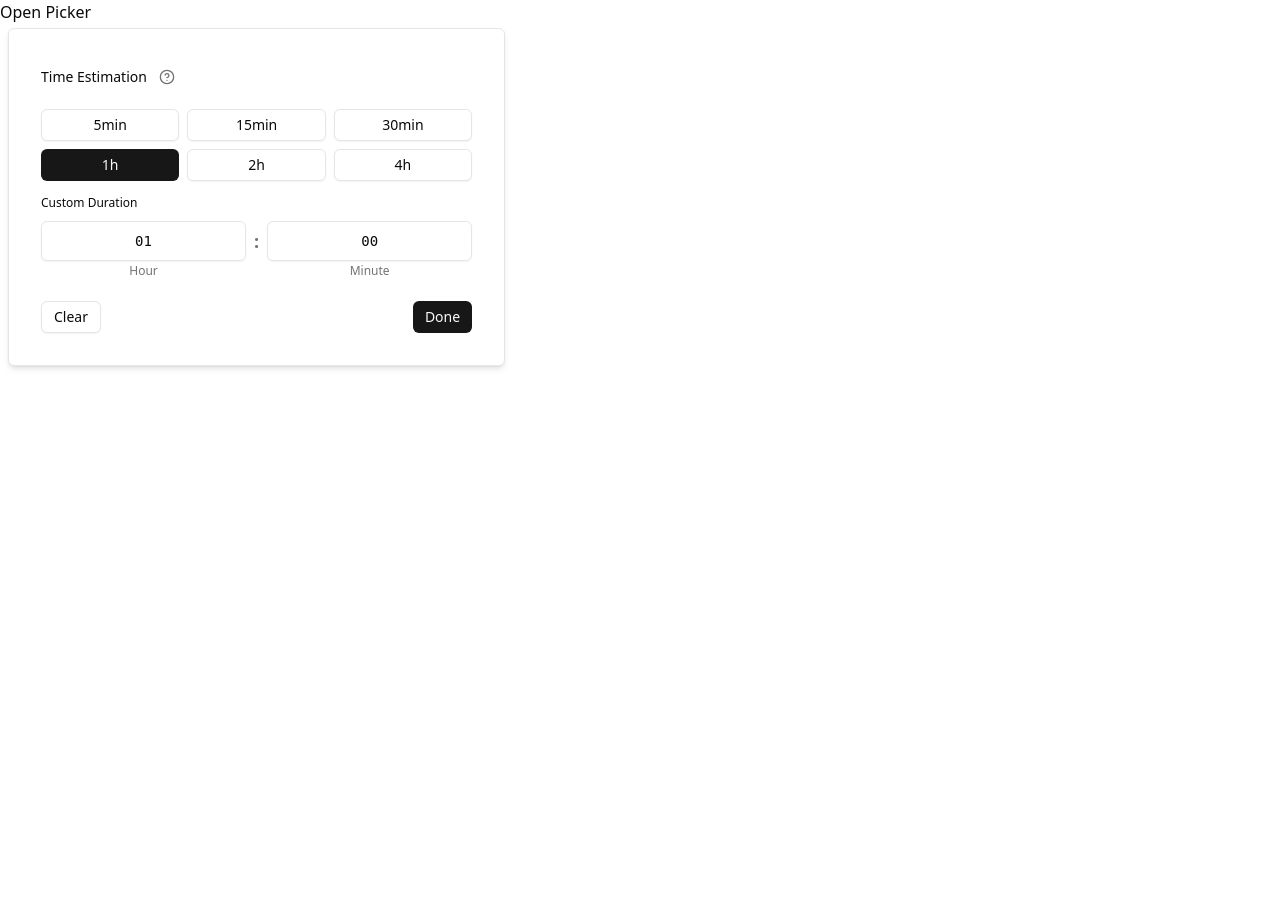
it: TimeEstimationPicker › custom duration functionality › formats hour input on blur
Replace the text in the 1st field showing "01" with "5": (144,241) [41,221,246,261]
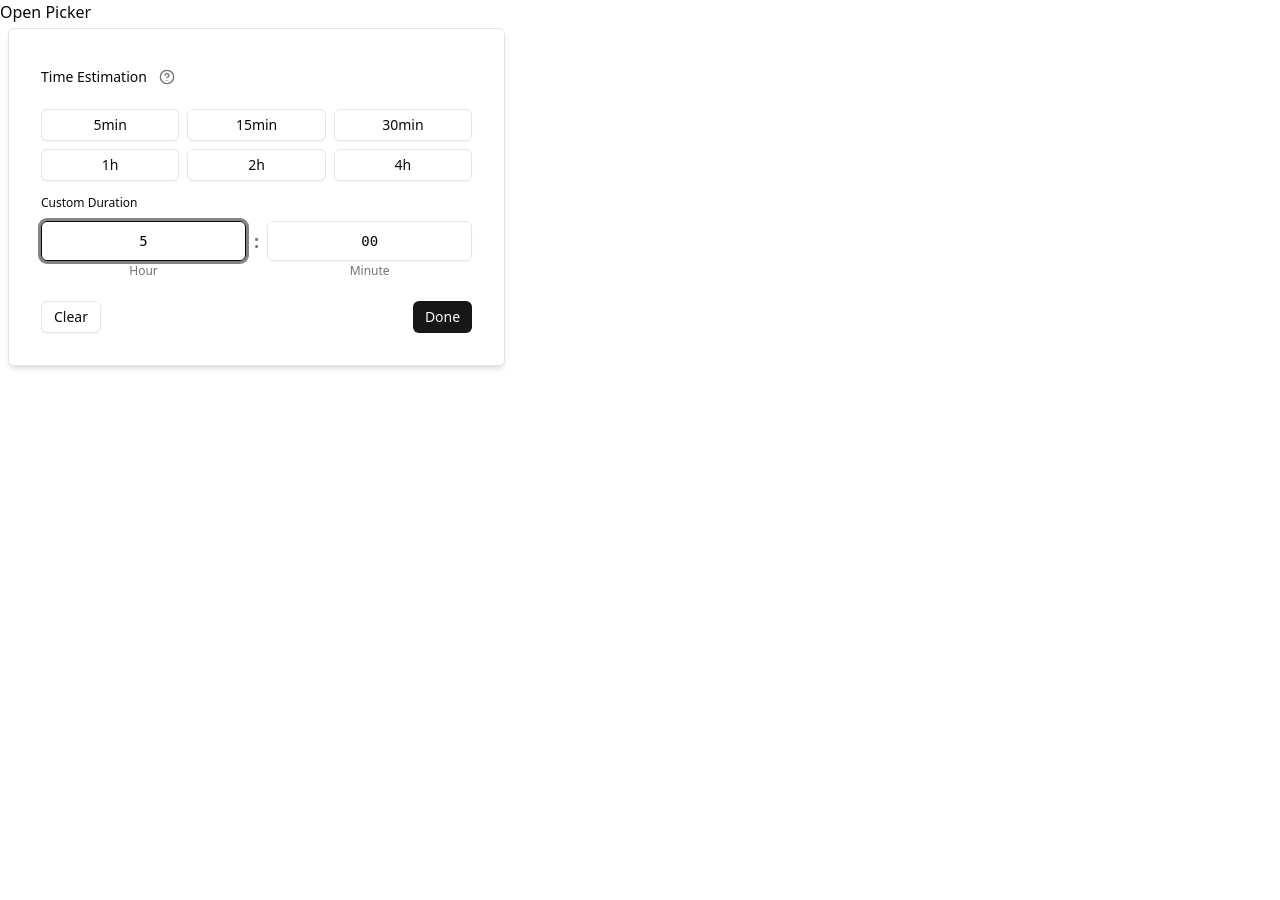
Press Tab
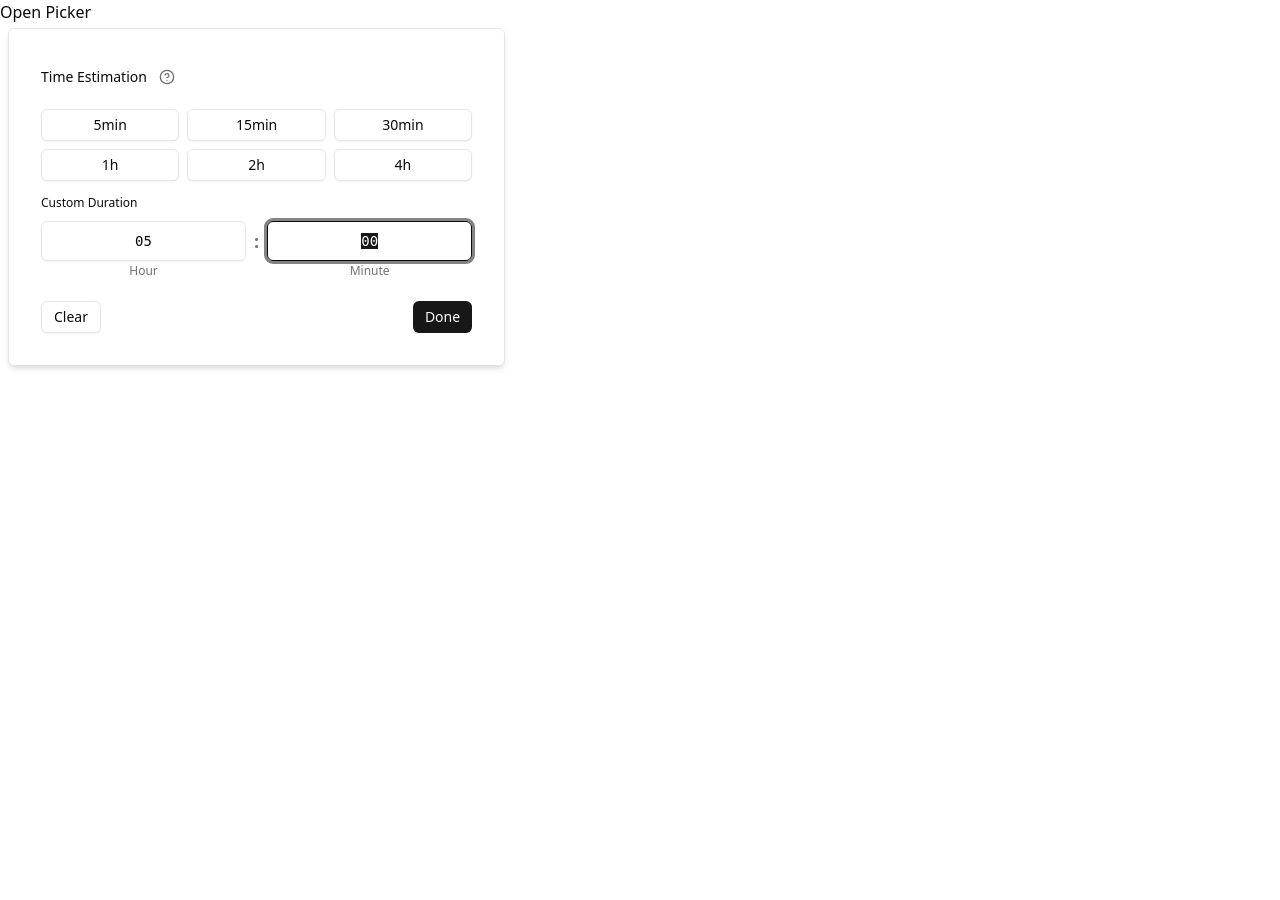
Check: the 1st field showing "01" holds "05", box [41,221,246,261]
